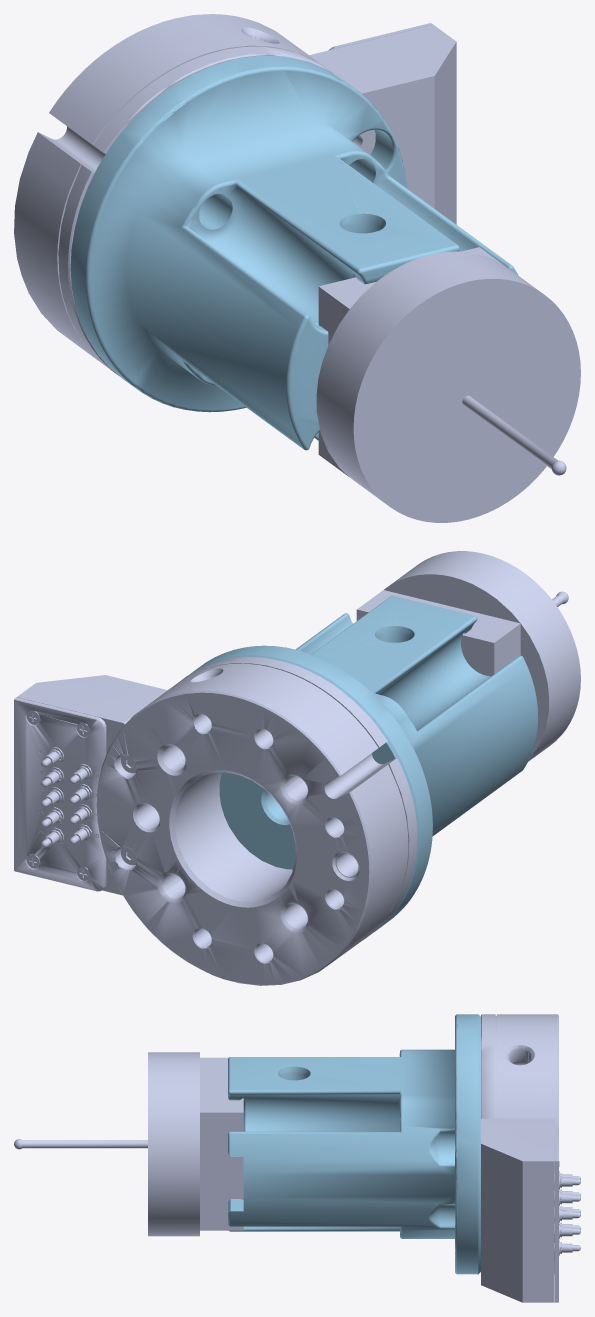
Rendered from touch_prod1_p0.glb.
The picture shows the model from 3 angles, top to bottom: view 1: azimuth 30°, elevation 25°; view 2: azimuth 150°, elevation 25°; view 3: azimuth 270°, elevation 25°; orthographic projection. The views are drawn at different scales.
Visible parts, largest first — view 1: g1, g0; view 2: g1, g0; view 3: g0, g1.
Boxes of the visible parts, bbox=[...] form: g1: bbox=[14, 14, 580, 522]; g0: bbox=[70, 55, 518, 450]; g1: bbox=[14, 551, 580, 985]; g0: bbox=[191, 595, 538, 930]; g0: bbox=[228, 1014, 480, 1274]; g1: bbox=[14, 1014, 580, 1302].
Bounding box in the file's own units: 0.0649 × 0.05 × 0.1089.
